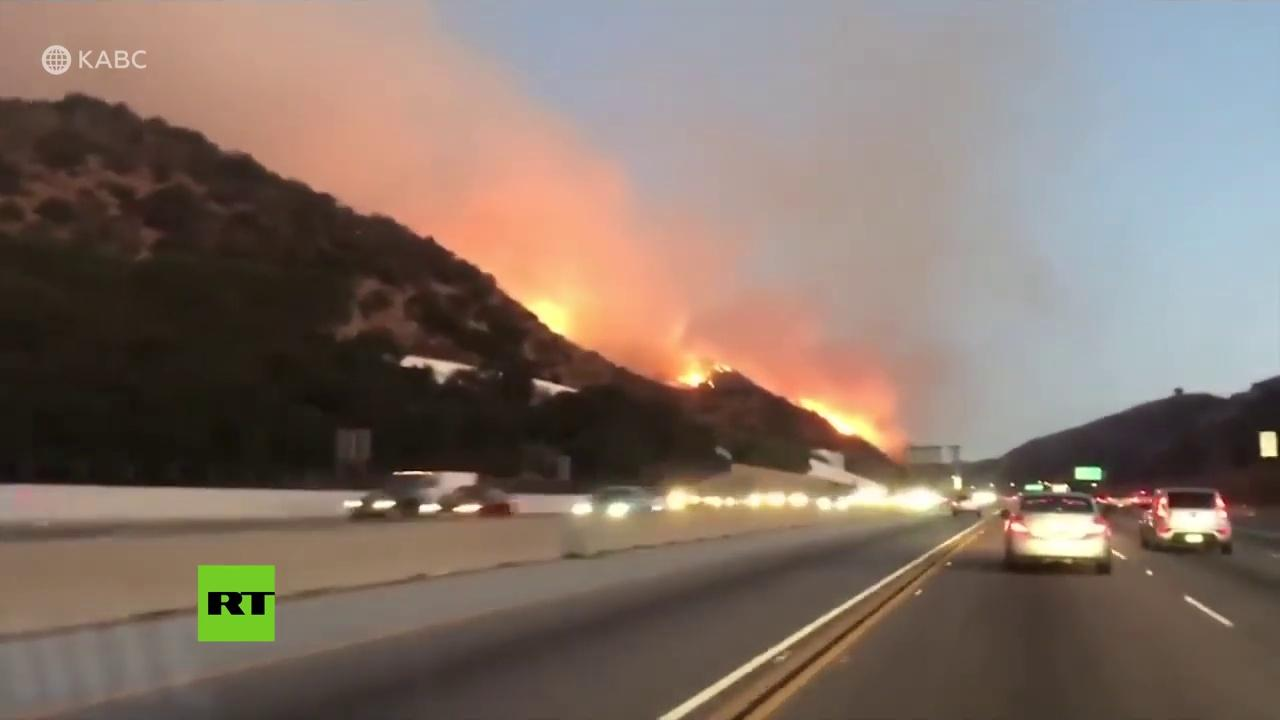Fire: (803, 399, 885, 448), (673, 349, 730, 390)
